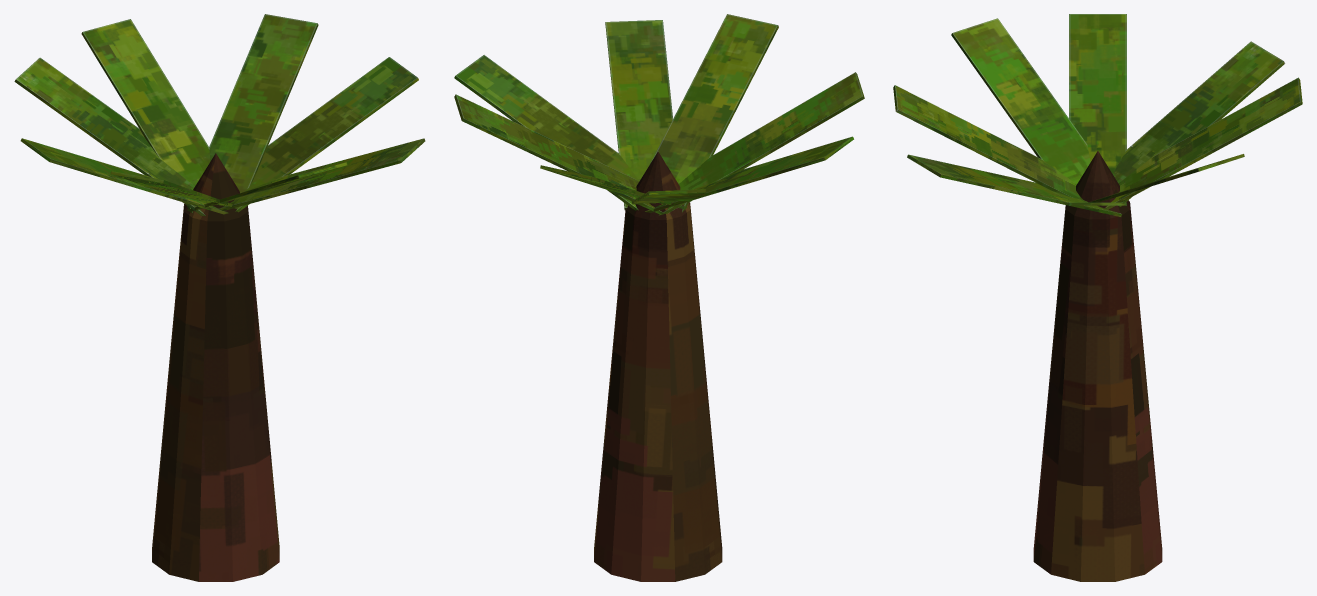
Rendered from palmier.fbx.
3 renders of one model, left to right at view 1: azimuth 30°, elevation 25°; view 2: azimuth 150°, elevation 25°; view 3: azimuth 270°, elevation 25°, orthographic.
Parts seen in each view (by area): view 1: cylinder, mesh_7, mesh_3, mesh, mesh_4, mesh_6, mesh_2, mesh_5, mesh_1; view 2: cylinder, mesh_1, mesh_6, mesh, mesh_5, mesh_7, mesh_2, mesh_3, mesh_4; view 3: cylinder, mesh_5, mesh_2, mesh_4, mesh_3, mesh_1, mesh_6, mesh_7.
Part boxes in pixels (x1,y1,x2,y2): cylinder: (152, 153, 279, 581); mesh_7: (209, 14, 318, 193); mesh_3: (81, 19, 210, 212); mesh: (235, 57, 418, 212); mesh_4: (14, 57, 205, 215); mesh_6: (219, 138, 425, 210); mesh_2: (20, 138, 228, 214); mesh_5: (110, 171, 238, 208); mesh_1: (187, 162, 347, 211); cylinder: (594, 151, 722, 581); mesh_1: (649, 14, 778, 212); mesh_6: (605, 20, 672, 210); mesh: (454, 55, 639, 210); mesh_5: (659, 72, 864, 215); mesh_7: (454, 94, 670, 216); mesh_2: (645, 136, 853, 212); mesh_3: (540, 165, 687, 209); mesh_4: (631, 189, 706, 204); cylinder: (1033, 151, 1162, 581); mesh_5: (951, 18, 1090, 183); mesh_2: (1069, 14, 1126, 173); mesh_4: (1113, 41, 1285, 206); mesh_3: (1104, 77, 1302, 209); mesh_1: (893, 85, 1082, 199); mesh_6: (907, 154, 1121, 216); mesh_7: (1088, 154, 1244, 202).
Size of the model in its own units: 167 by 198 by 160.
Materials: 1 (1 with a texture image).
